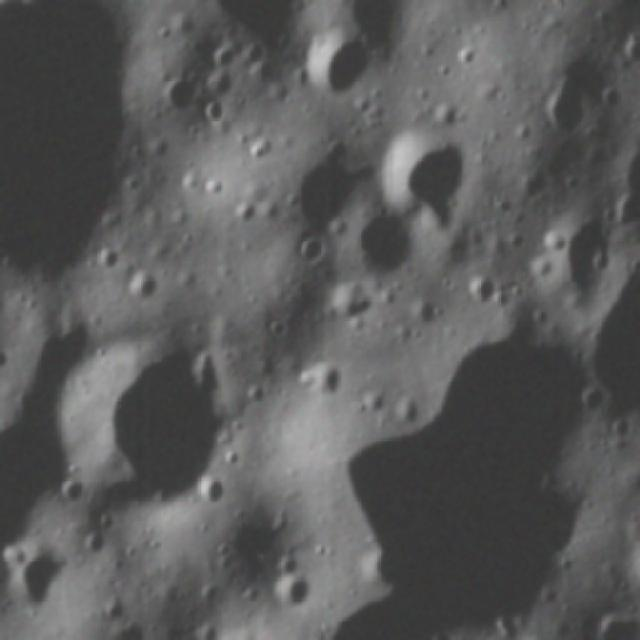crater: (61, 324, 254, 511), (362, 115, 476, 231), (524, 208, 622, 318), (263, 142, 366, 242), (328, 201, 428, 294), (533, 53, 605, 144), (297, 19, 371, 95), (0, 546, 74, 614), (270, 562, 342, 620), (150, 69, 207, 117), (461, 270, 499, 324), (303, 361, 349, 402), (79, 528, 126, 561), (193, 474, 232, 511), (128, 272, 166, 308)
